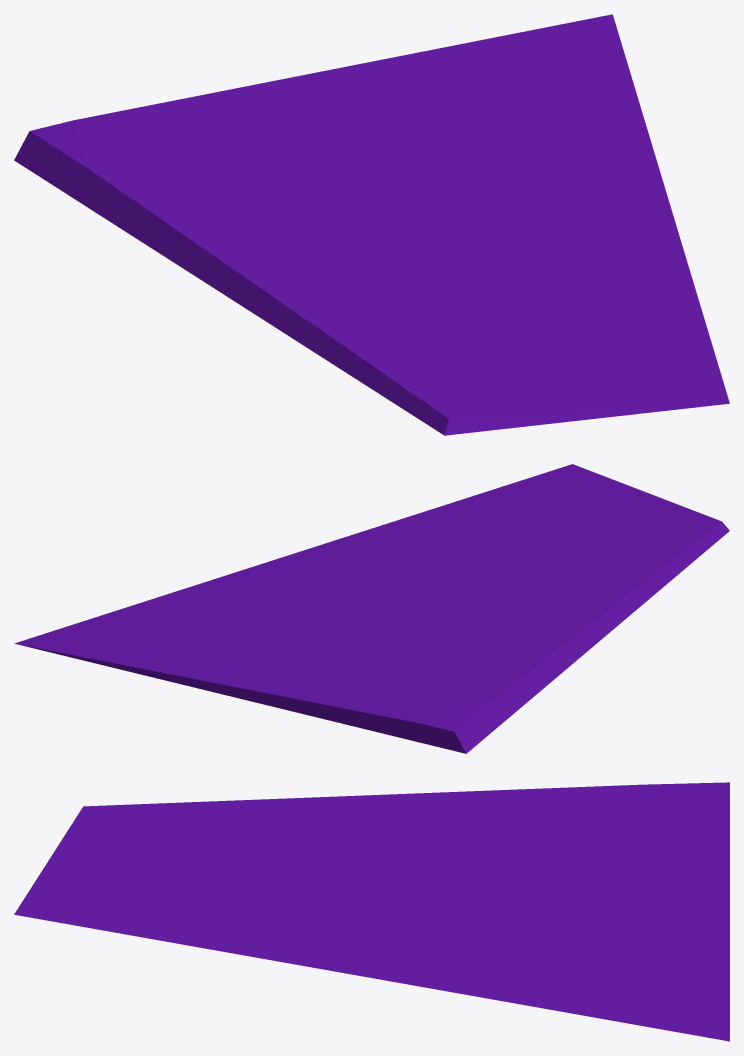
The model's file is Exhibition_18_1_chunks.fbx.
The picture shows the model from 3 angles, top to bottom: view 1: azimuth 30°, elevation 25°; view 2: azimuth 150°, elevation 25°; view 3: azimuth 270°, elevation 25°; orthographic projection. The views are drawn at different scales.
Parts seen in each view (by area): view 1: Exhibition_18_1_0; view 2: Exhibition_18_1_0; view 3: Exhibition_18_1_0.
Part boxes in pixels (x1,y1,x2,y2): Exhibition_18_1_0: (14, 14, 729, 435); Exhibition_18_1_0: (14, 464, 729, 753); Exhibition_18_1_0: (14, 782, 729, 1041).
Bounding box in the file's own units: 395 × 16.06 × 489.
